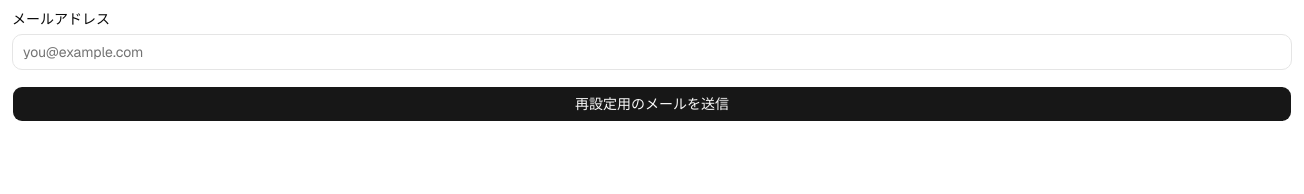
ForgotPasswordForm › 送信に成功すると、案内を表示しメールアドレスを残す
Type "user@example.com" into the field labelled "メールアドレス" at coordinates (652, 52), box [12,34,1292,70]
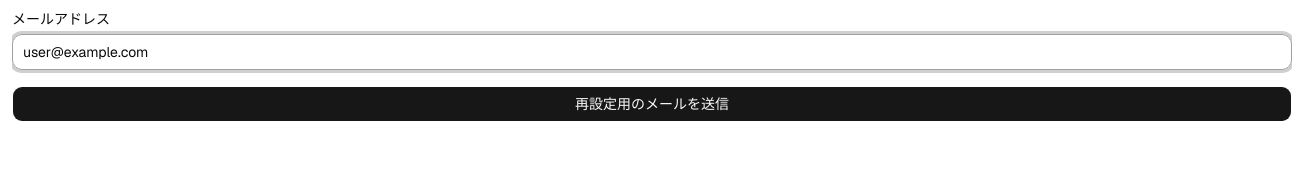
Click the button "再設定用のメールを送信" at coordinates (652, 104), box [12,86,1292,122]
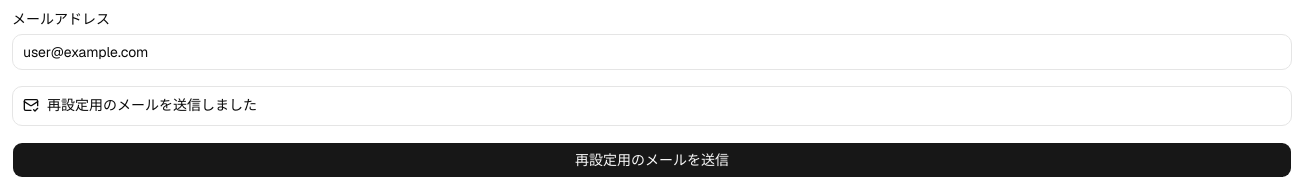
Result: the message reads "再設定用のメールを送信しました" at [47,96,257,114]
